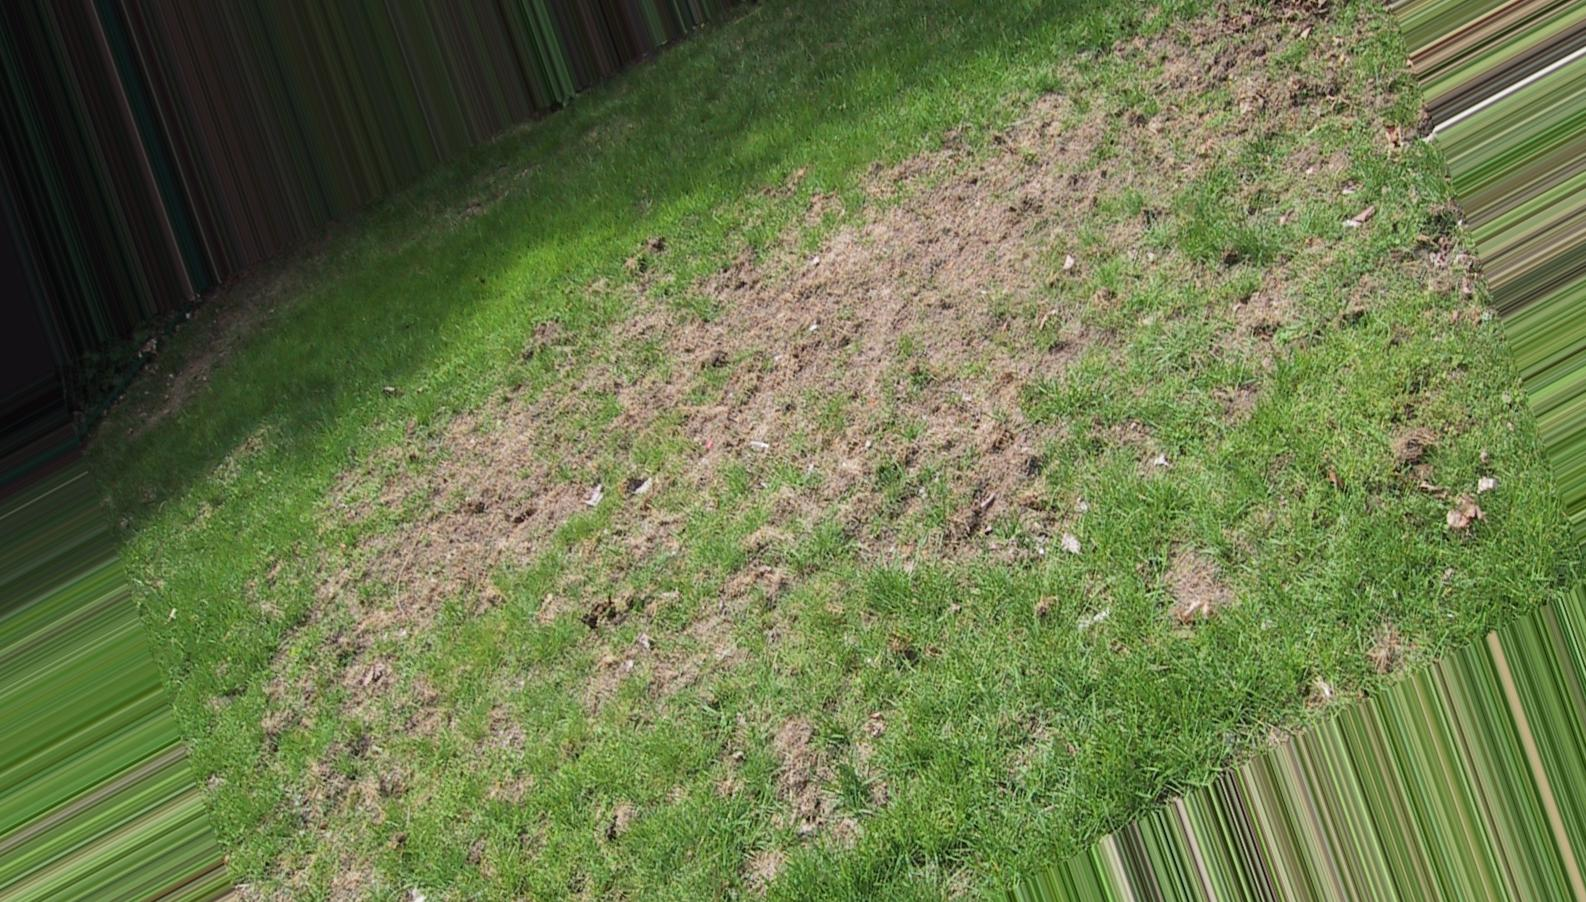patch: (337, 470, 839, 794), (703, 298, 1033, 513), (902, 157, 1162, 304)
